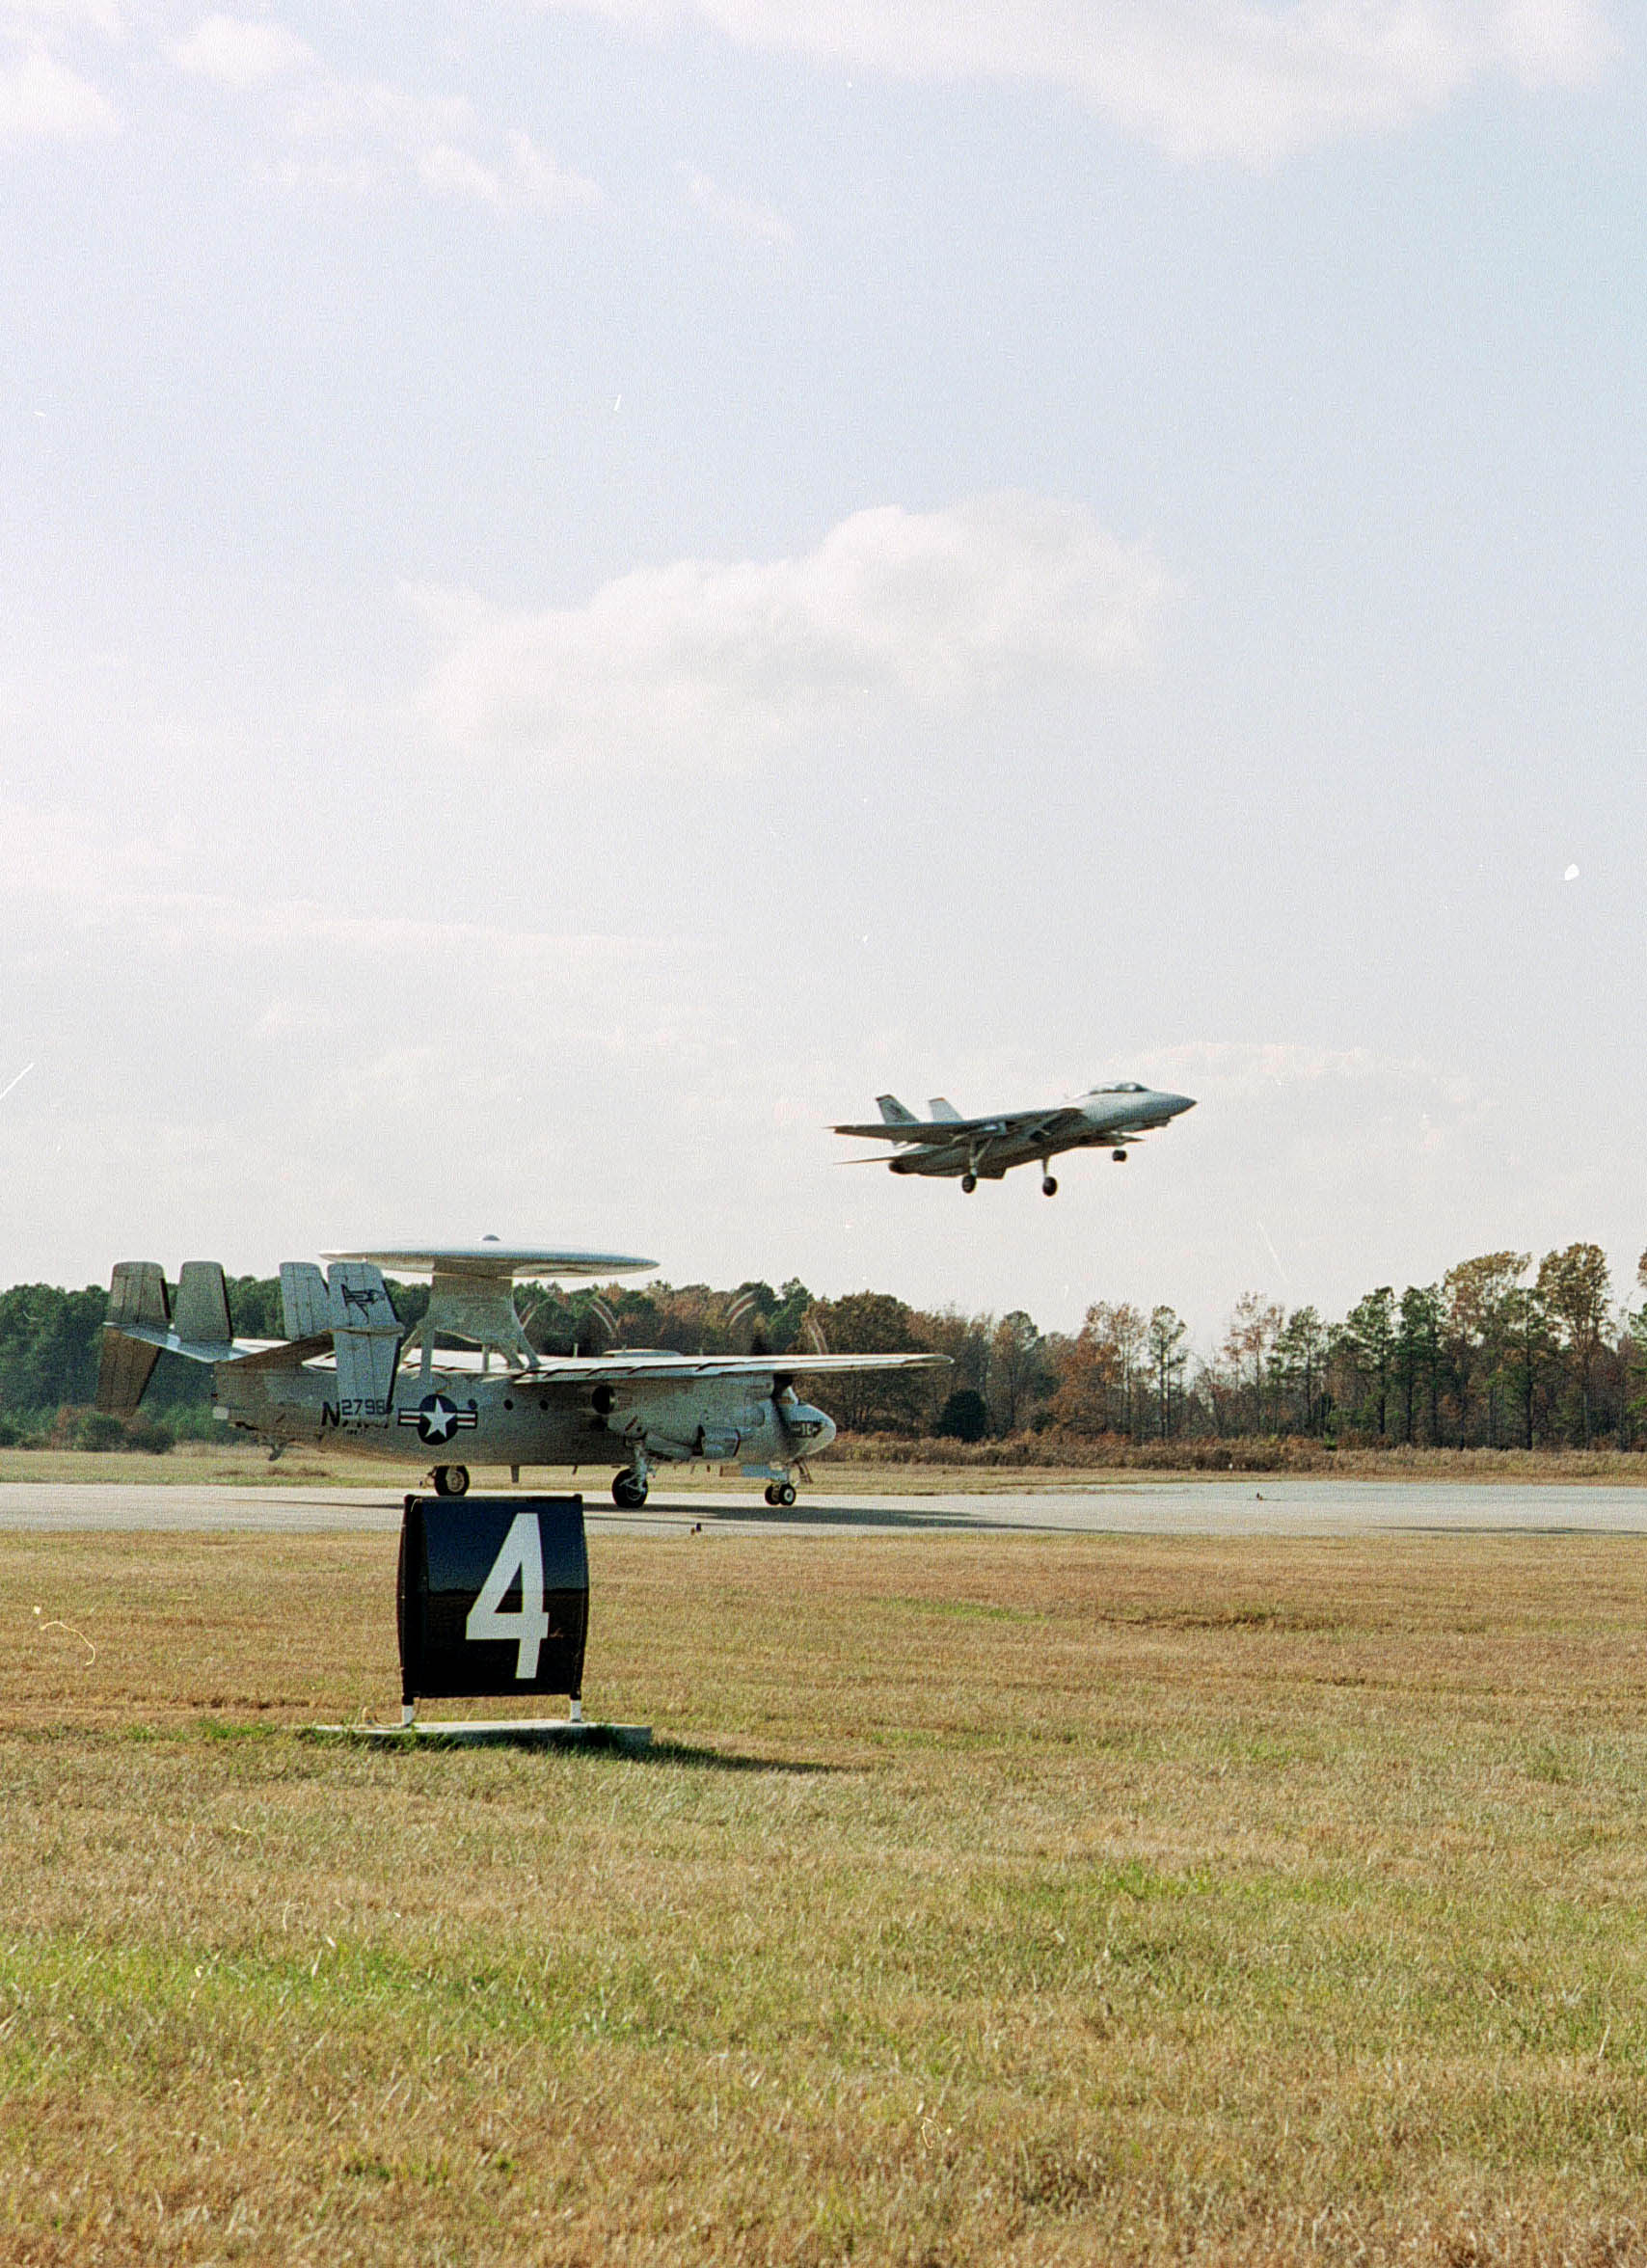E2: (95, 1233, 955, 1507)
F14: (812, 1079, 1201, 1197)
